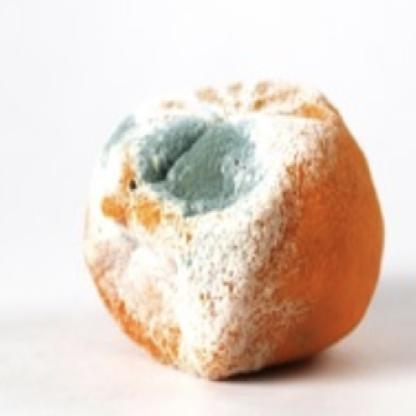rotten: (84, 75, 385, 382)
